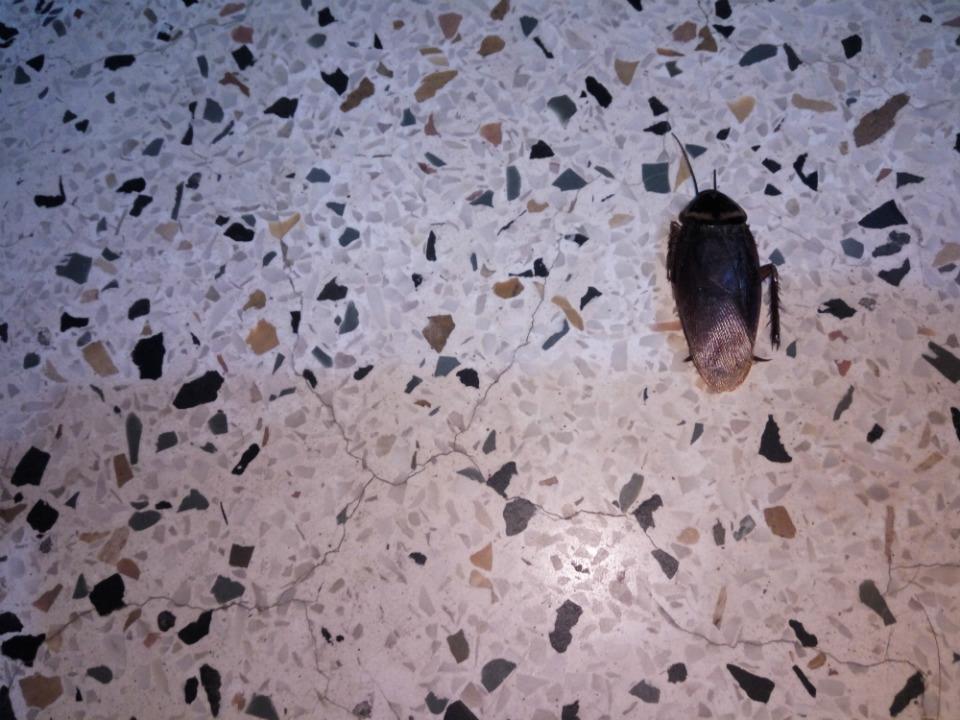cockroach: (567, 90, 855, 430)
